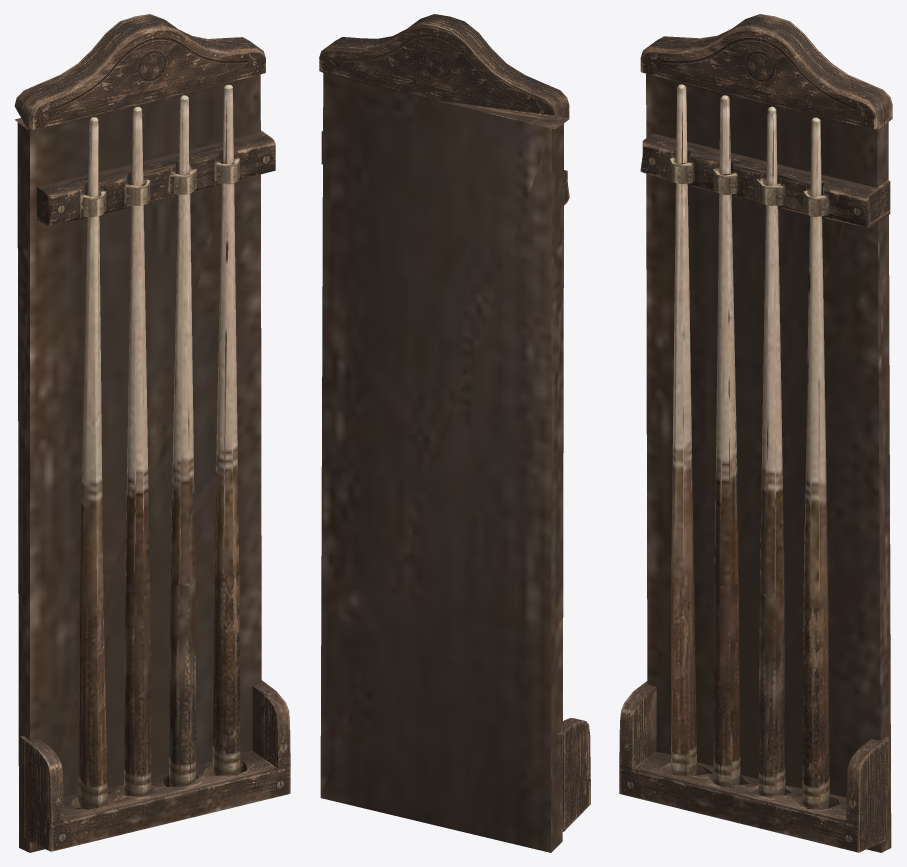
The model's file is cue-rack.glb.
The picture shows the model from 3 angles, left to right: view 1: azimuth 30°, elevation 25°; view 2: azimuth 150°, elevation 25°; view 3: azimuth 330°, elevation 25°; orthographic projection.
Parts seen in each view (by area): view 1: GLTF; view 2: GLTF; view 3: GLTF.
Boxes of the visible parts, bbox=[...] form: GLTF: bbox=[14, 14, 290, 852]; GLTF: bbox=[319, 14, 590, 852]; GLTF: bbox=[619, 14, 892, 852].
Size of the model in its own units: 0.4535 by 1.45 by 0.121.
1 material, 1 textured.
